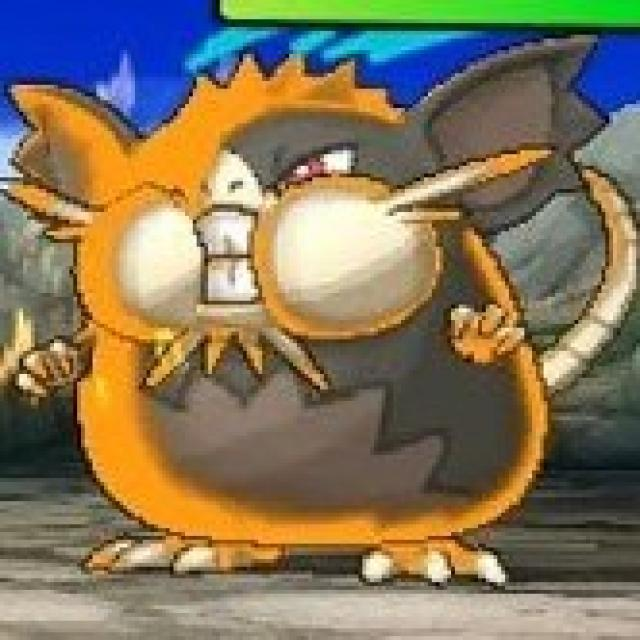Raticate: (17, 55, 587, 582)
